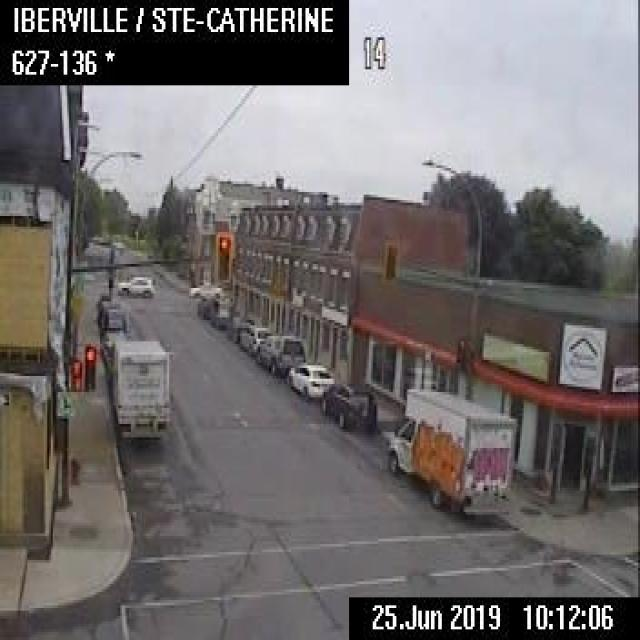vehicle: (386, 385, 514, 512), (112, 337, 169, 438), (320, 380, 376, 430), (256, 332, 304, 371), (287, 361, 334, 396), (239, 323, 271, 355), (100, 329, 124, 365), (116, 273, 154, 295), (210, 297, 236, 325), (226, 314, 253, 339), (186, 279, 222, 296), (98, 298, 119, 327), (196, 292, 218, 318), (105, 306, 125, 327)
